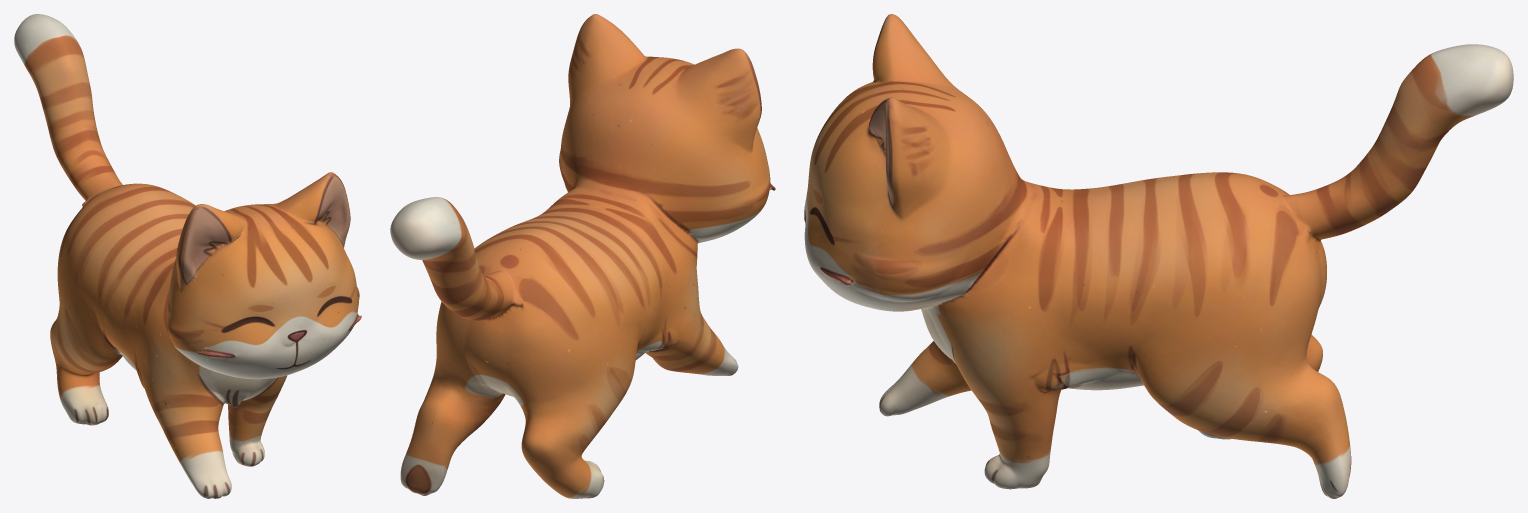
Rendered from Meshy_AI_Cat_Walk2_0617135109_texture.glb.
The picture shows the model from 3 angles, left to right: view 1: azimuth 30°, elevation 25°; view 2: azimuth 150°, elevation 25°; view 3: azimuth 270°, elevation 25°; orthographic projection. The views are drawn at different scales.
Bounding box in the file's own units: 0.7694 × 1.31 × 2.
1 material, 1 textured.
